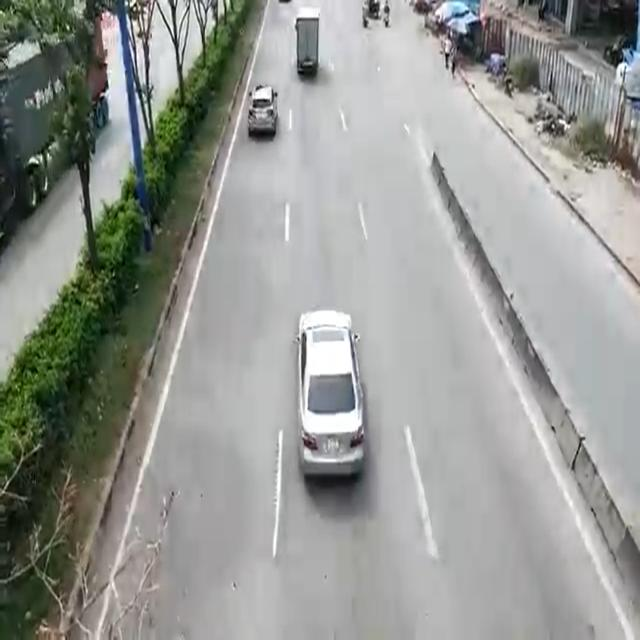car: (300, 314, 366, 485), (248, 81, 275, 137)
truck: (295, 8, 319, 78)
